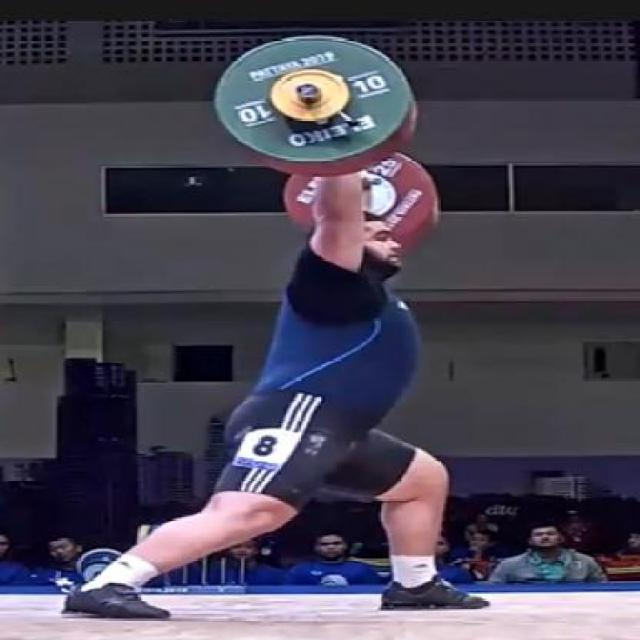barbell: (193, 26, 431, 188)
